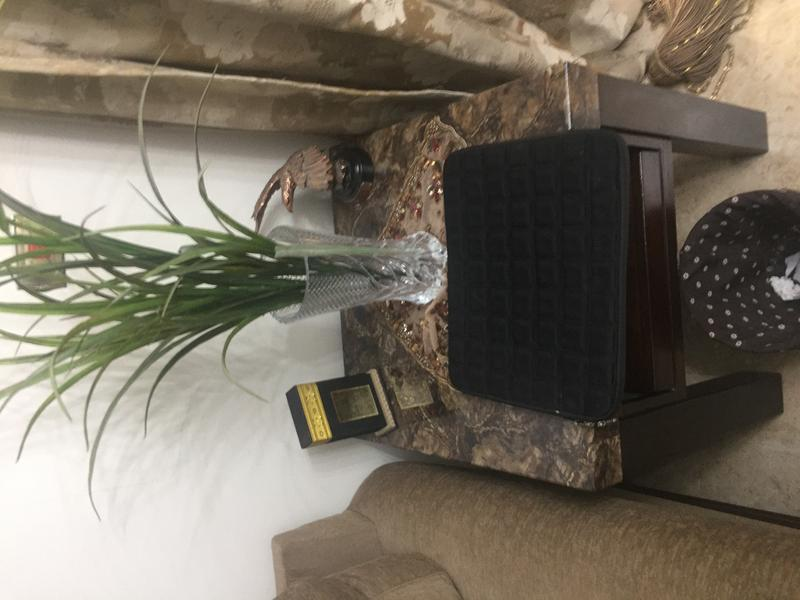cover: (444, 133, 635, 426)
